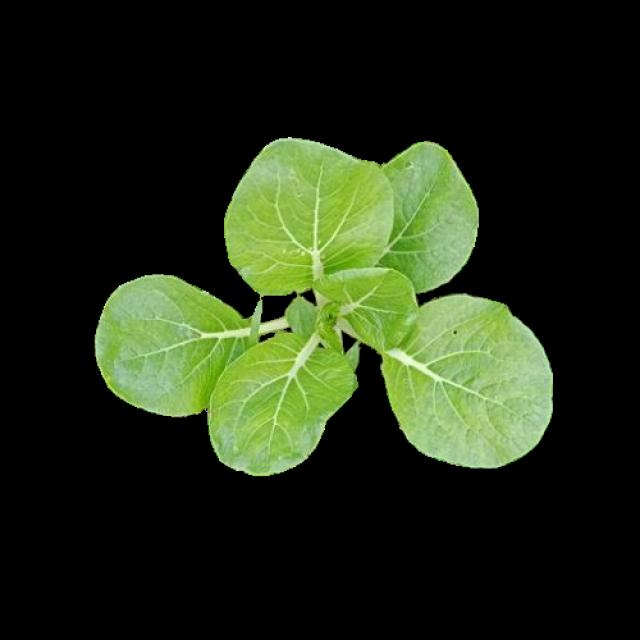not-mature: (99, 142, 546, 469)
unhealthy: (382, 296, 542, 466), (224, 142, 394, 292), (382, 143, 476, 294)
